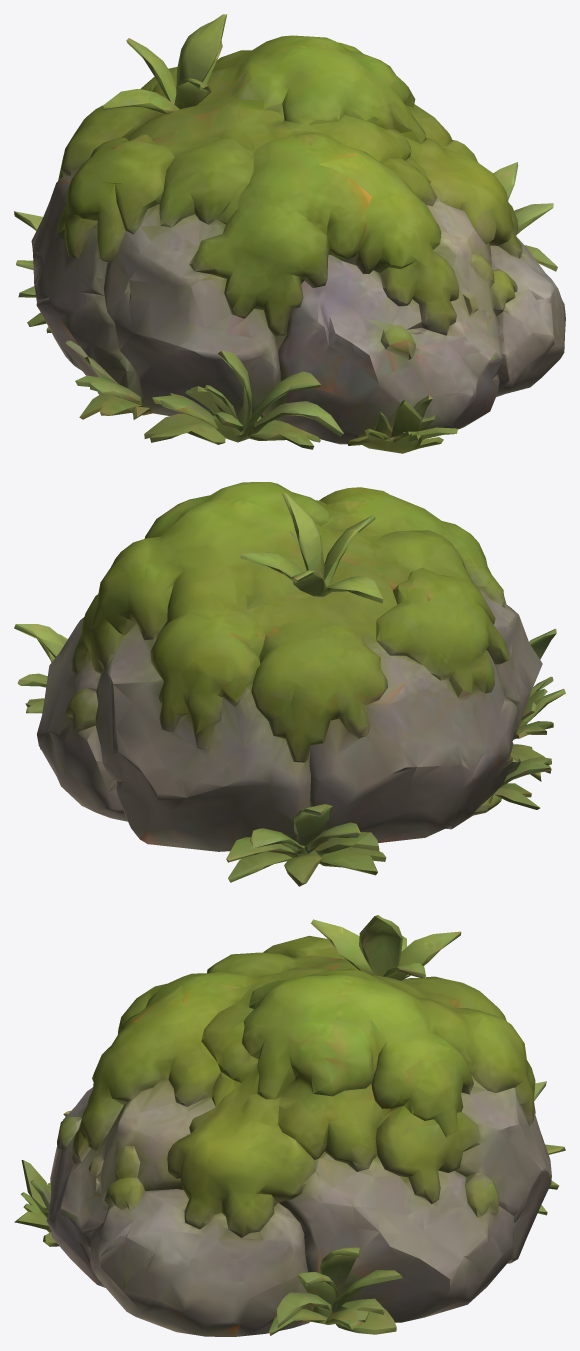
Rendered from roca_musgosa_6000.glb.
3 views of the same model, one above another, from view 1: azimuth 30°, elevation 25°; view 2: azimuth 150°, elevation 25°; view 3: azimuth 270°, elevation 25° (orthographic). The views are drawn at different scales.
Parts seen in each view (by area): view 1: roca_musgosa_malla; view 2: roca_musgosa_malla; view 3: roca_musgosa_malla.
Boxes of the visible parts, x1=… form: roca_musgosa_malla: x1=14, y1=14, x2=565, y2=453; roca_musgosa_malla: x1=14, y1=482, x2=565, y2=886; roca_musgosa_malla: x1=14, y1=915, x2=565, y2=1336.
Bounding box in the file's own units: 0.4707 × 0.2934 × 0.4605.
1 material, 1 textured.
